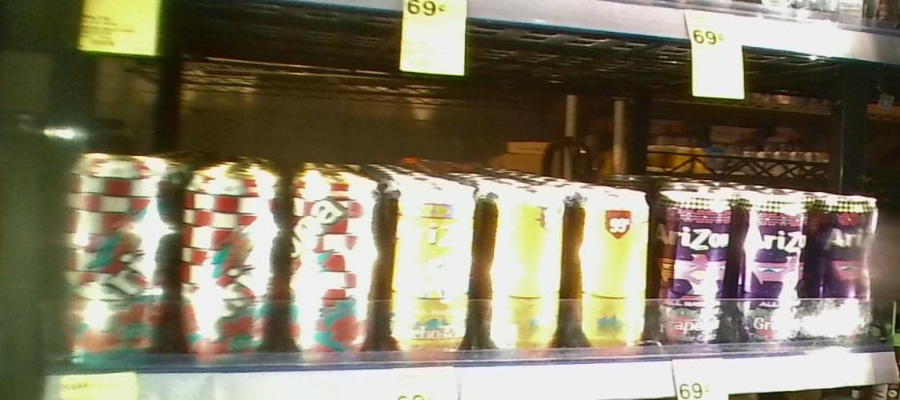bottle: (54, 148, 177, 369), (177, 150, 282, 371), (285, 153, 376, 369), (382, 162, 478, 366), (482, 174, 572, 362), (577, 175, 653, 362), (655, 186, 729, 354), (735, 183, 808, 352), (810, 183, 879, 351)
